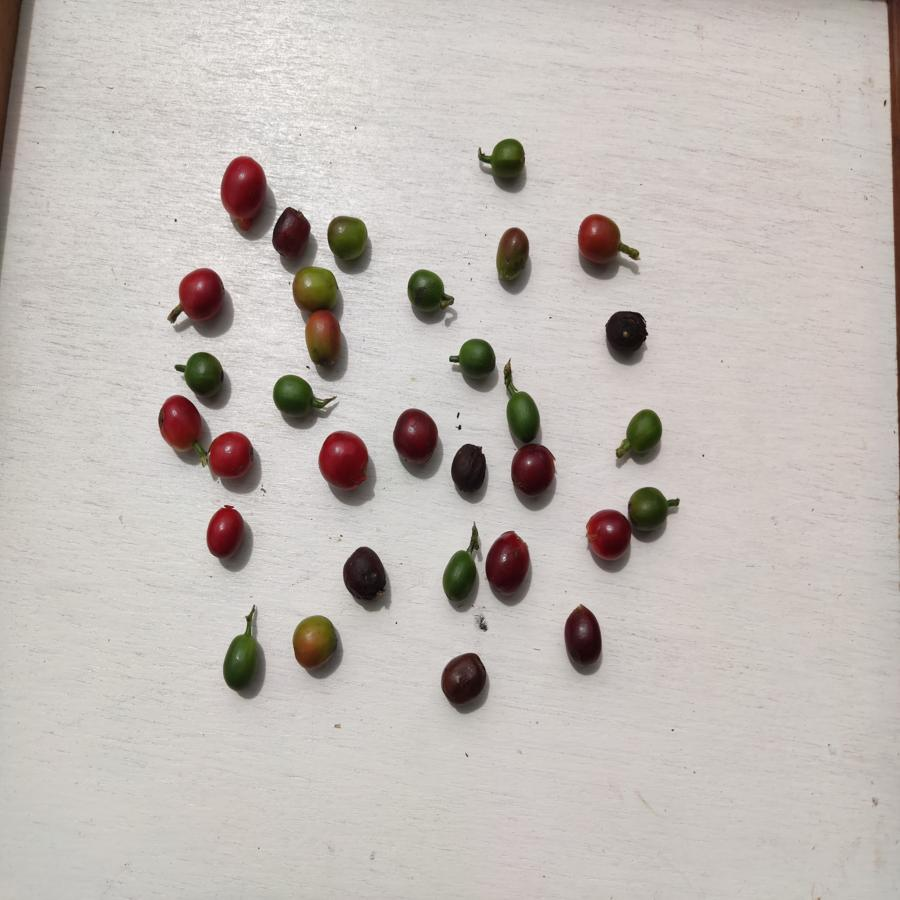Inmaduro: (219, 632, 261, 690), (268, 372, 315, 422), (502, 390, 545, 444), (437, 548, 479, 602), (183, 350, 232, 396), (626, 482, 670, 533), (325, 214, 371, 260), (455, 334, 498, 382), (627, 404, 665, 454), (488, 134, 528, 180), (405, 267, 442, 316)
Maduro: (217, 154, 268, 224), (177, 265, 228, 326), (317, 431, 370, 489), (158, 392, 201, 455), (575, 211, 623, 267), (205, 428, 255, 481), (588, 508, 629, 564), (206, 503, 245, 561)
Pinton: (291, 614, 340, 670), (494, 224, 531, 285), (292, 264, 340, 311), (303, 312, 341, 367)
Sobremaduro: (483, 528, 533, 596), (342, 545, 388, 605), (562, 603, 604, 668), (392, 405, 437, 465), (440, 650, 488, 705), (512, 442, 557, 496), (448, 441, 490, 495), (273, 206, 311, 261), (605, 309, 648, 357)
